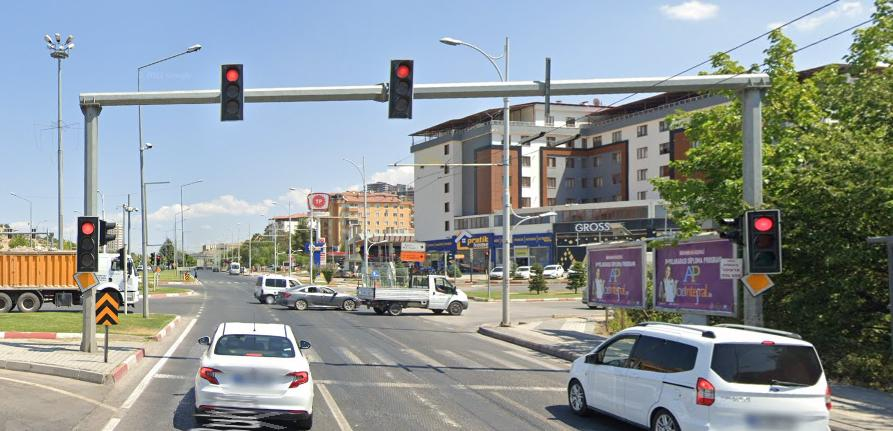redlight: (748, 209, 782, 274), (388, 60, 415, 119), (218, 62, 245, 120), (77, 214, 97, 272)
